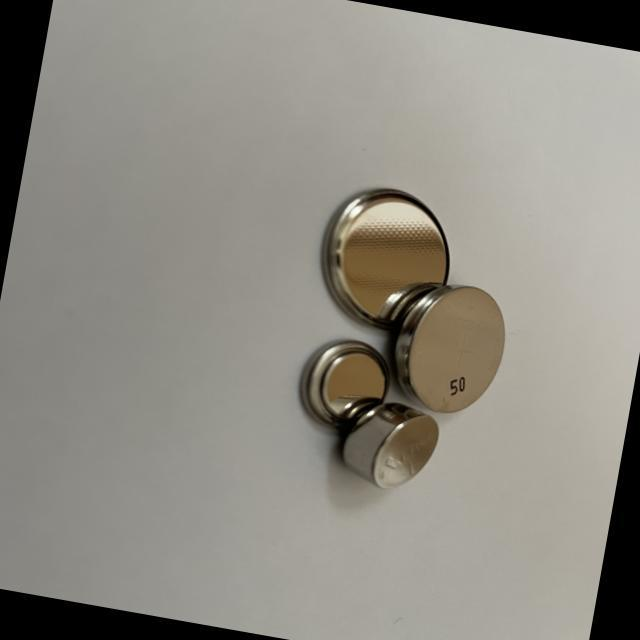COIN: (307, 173, 463, 346), (386, 274, 516, 424), (328, 394, 446, 498), (292, 332, 395, 439)
